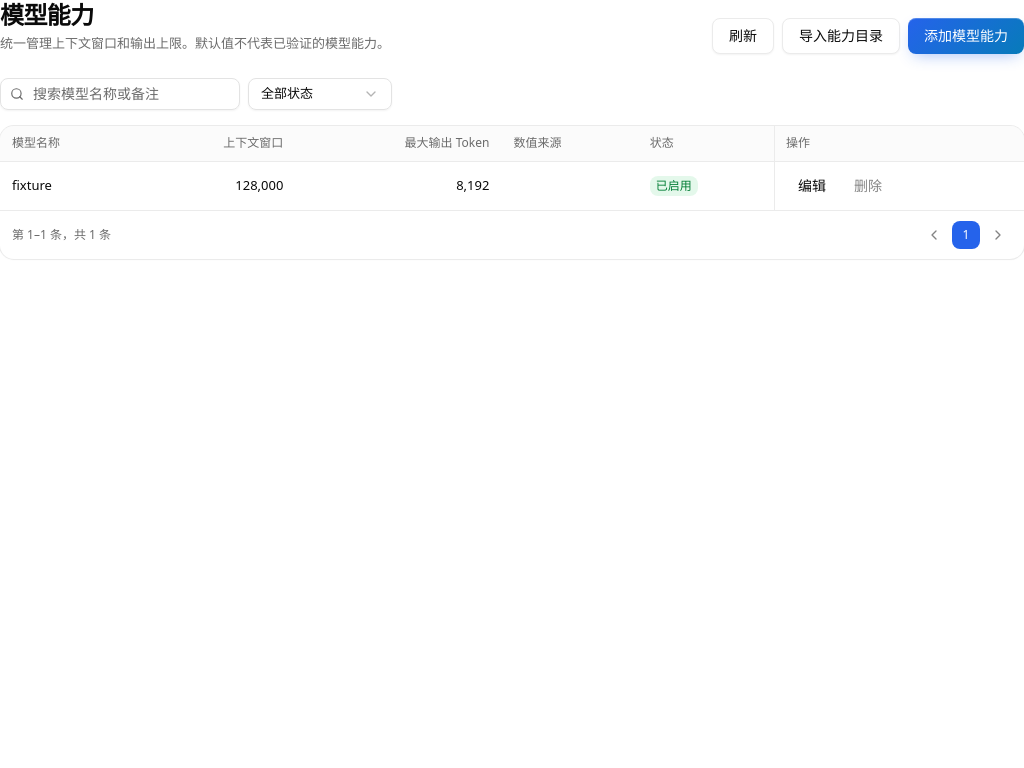
Test case: model capability edits can clear an override and survive an initial save failure
Click the button "编辑" at point(812, 186), box left=786, top=170, right=838, bottom=202
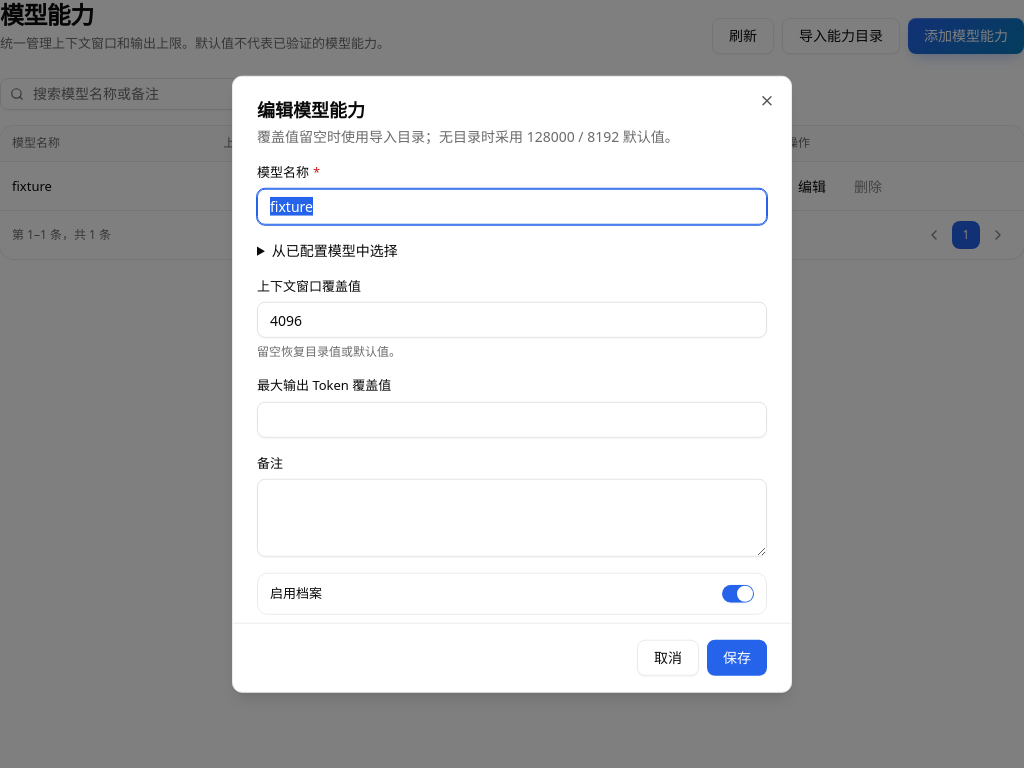
Clear the number field labelled "上下文窗口覆盖值" at point(512, 320), box left=257, top=302, right=767, bottom=338
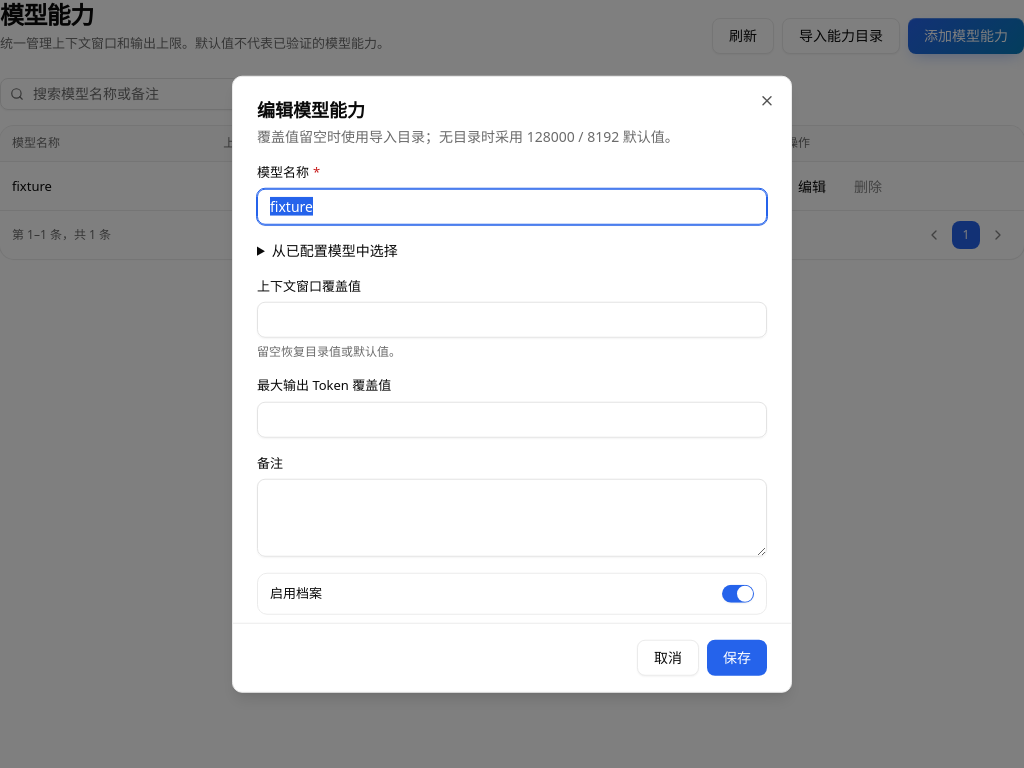
Click the button "保存" at point(737, 657), box left=707, top=639, right=767, bottom=675
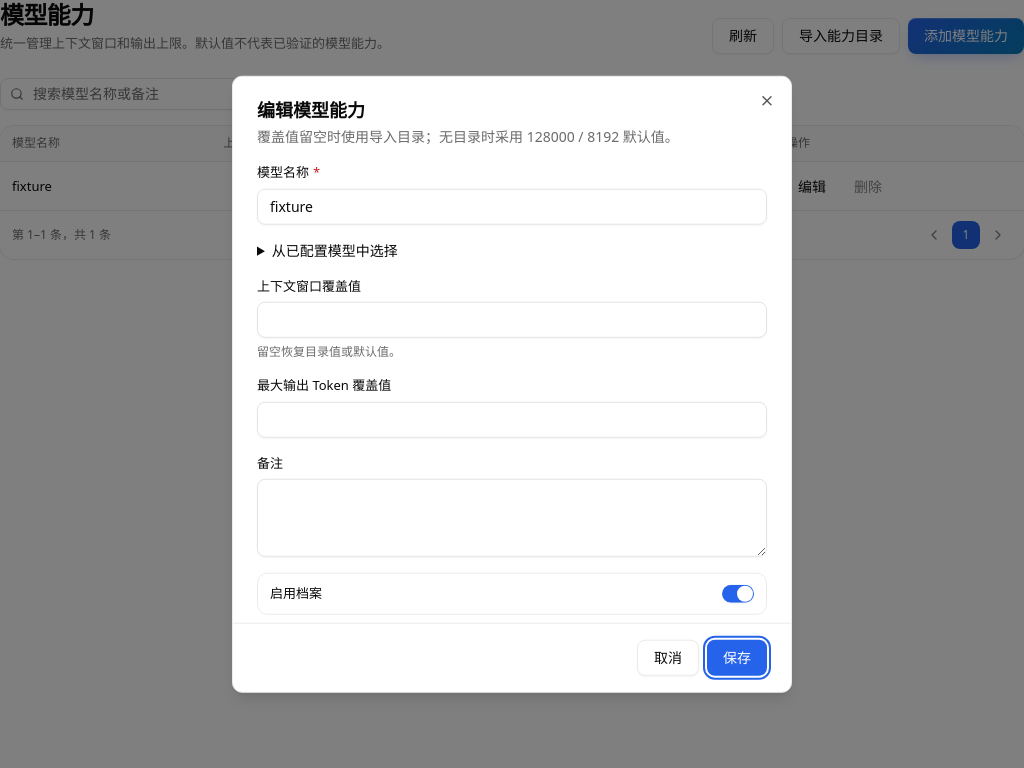
expect the dialog is shown: met, box left=232, top=76, right=792, bottom=692
Click the button "保存" at point(737, 657), box left=707, top=639, right=767, bottom=675
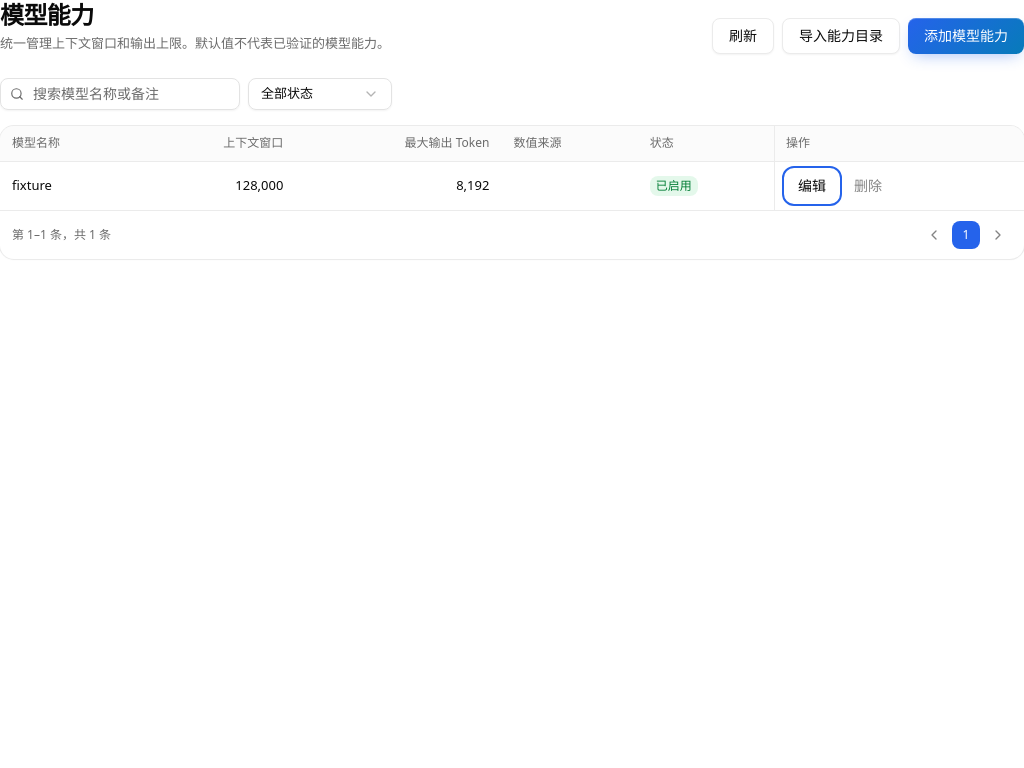
expect the dialog is gone: met
